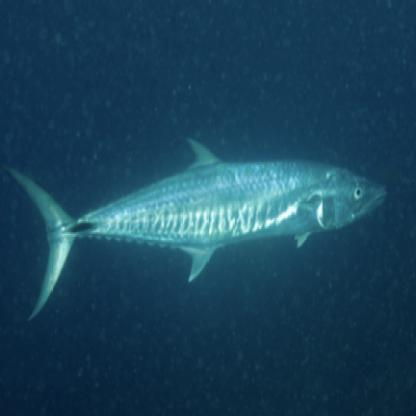Scombridae -Tunas-: (3, 130, 392, 322)
